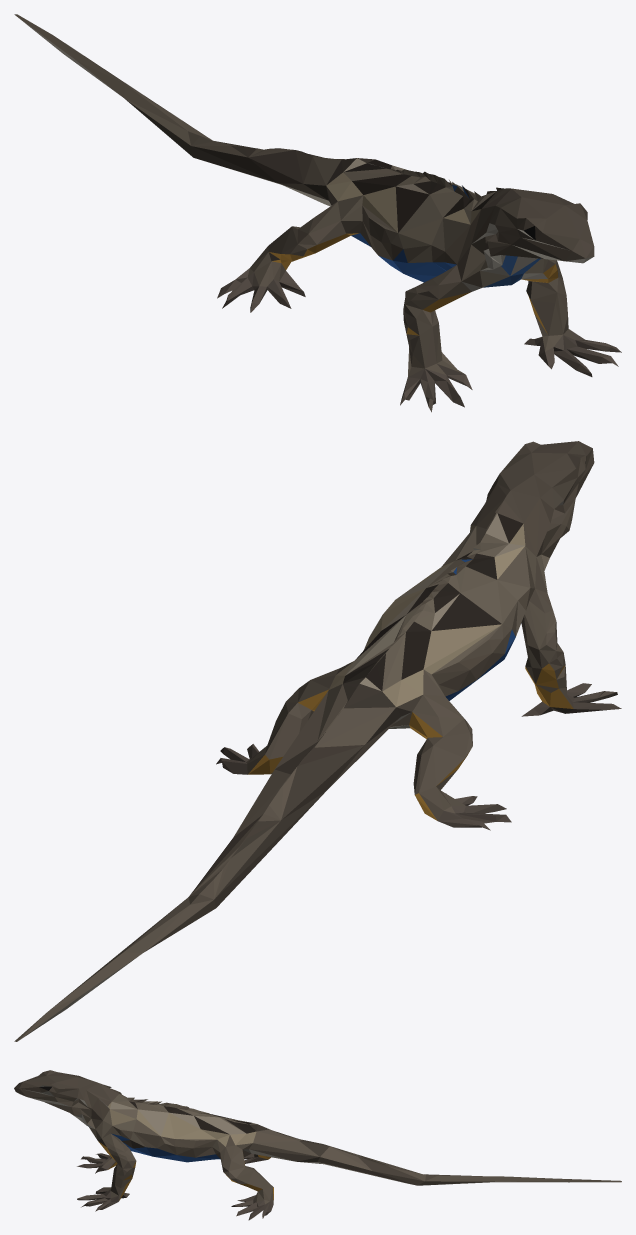
The model's file is fence_lizard.glb.
3 renders of one model, top to bottom at view 1: azimuth 30°, elevation 25°; view 2: azimuth 150°, elevation 25°; view 3: azimuth 270°, elevation 25°, orthographic. The views are drawn at different scales.
Parts seen in each view (by area): view 1: lod0; view 2: lod0; view 3: lod0.
Part boxes in pixels (x1=…): lod0: x1=14, y1=14, x2=621, y2=412; lod0: x1=14, y1=441, x2=621, y2=1041; lod0: x1=14, y1=1070, x2=621, y2=1220.
Size of what is drawn, in the model's own units: 0.0528 by 0.0349 by 0.1791.
